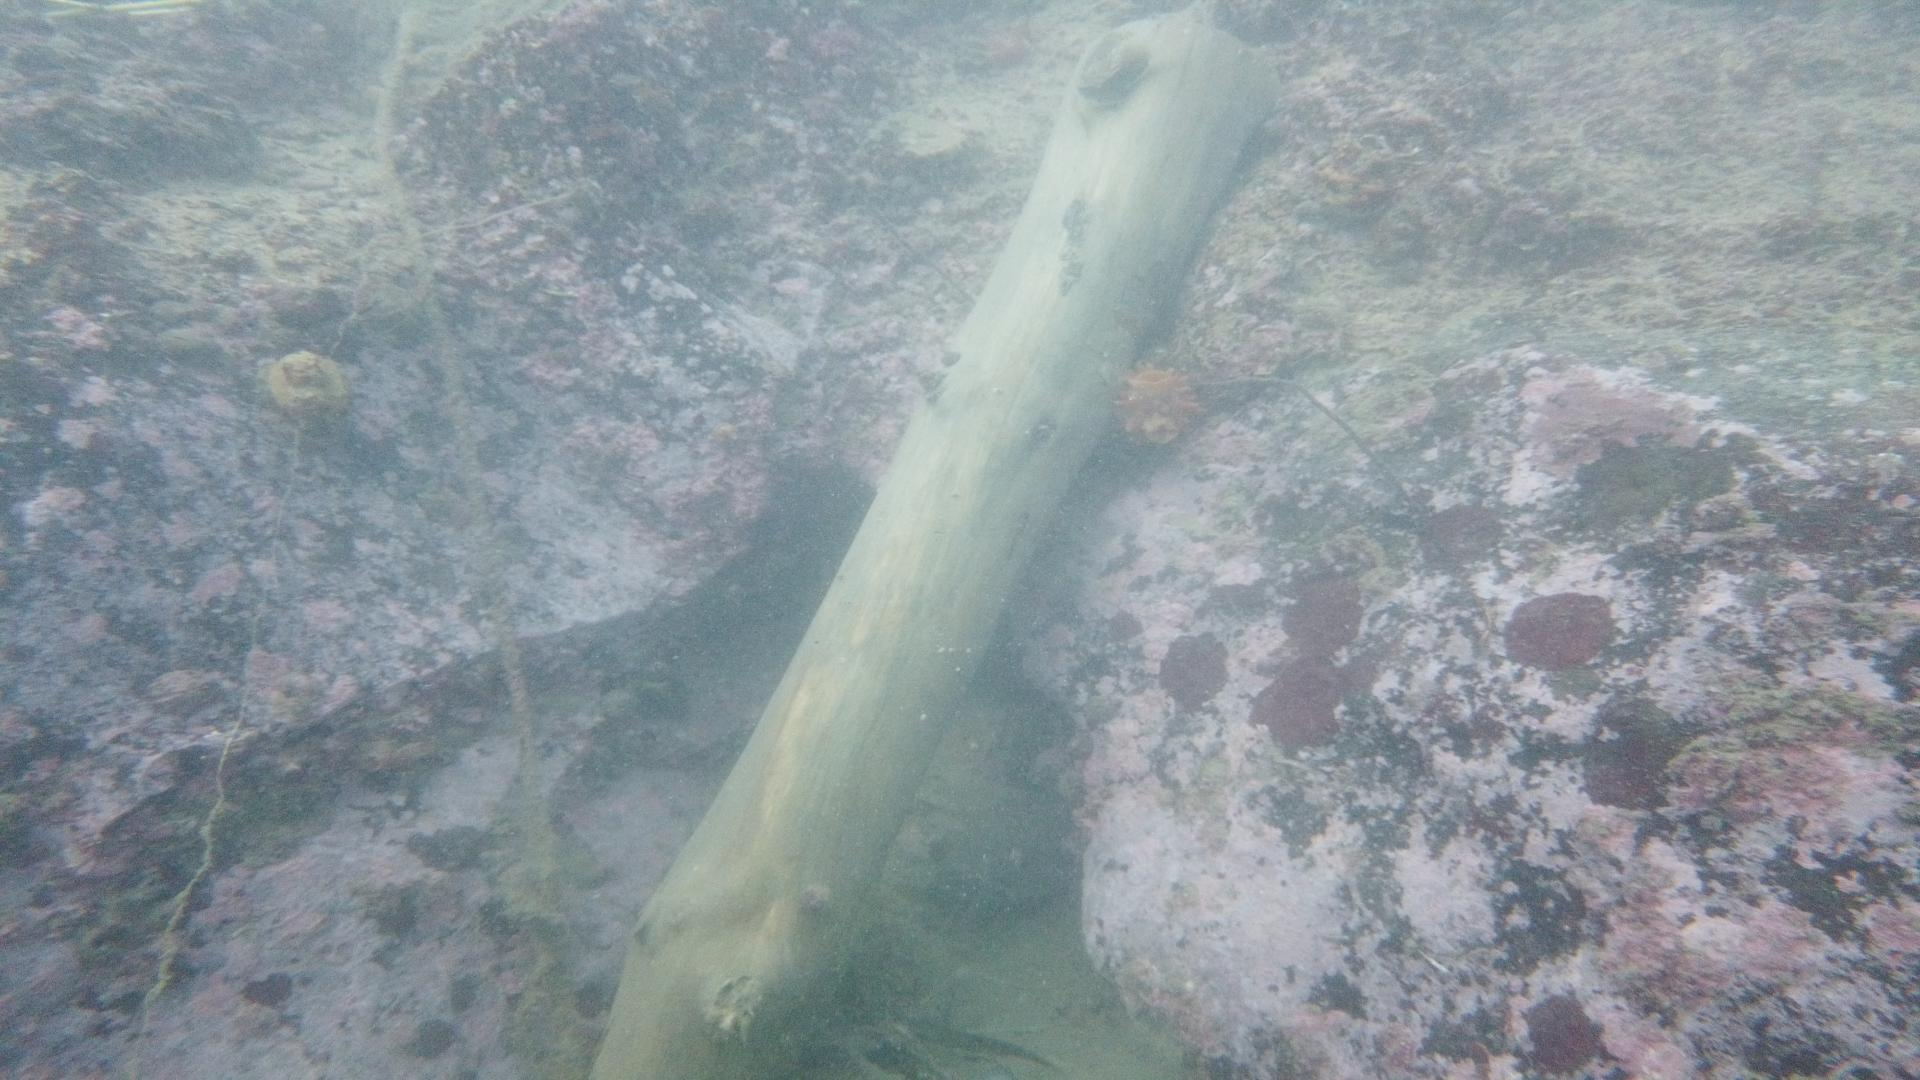rope: (377, 0, 549, 848)
wood: (579, 15, 1276, 1080)
